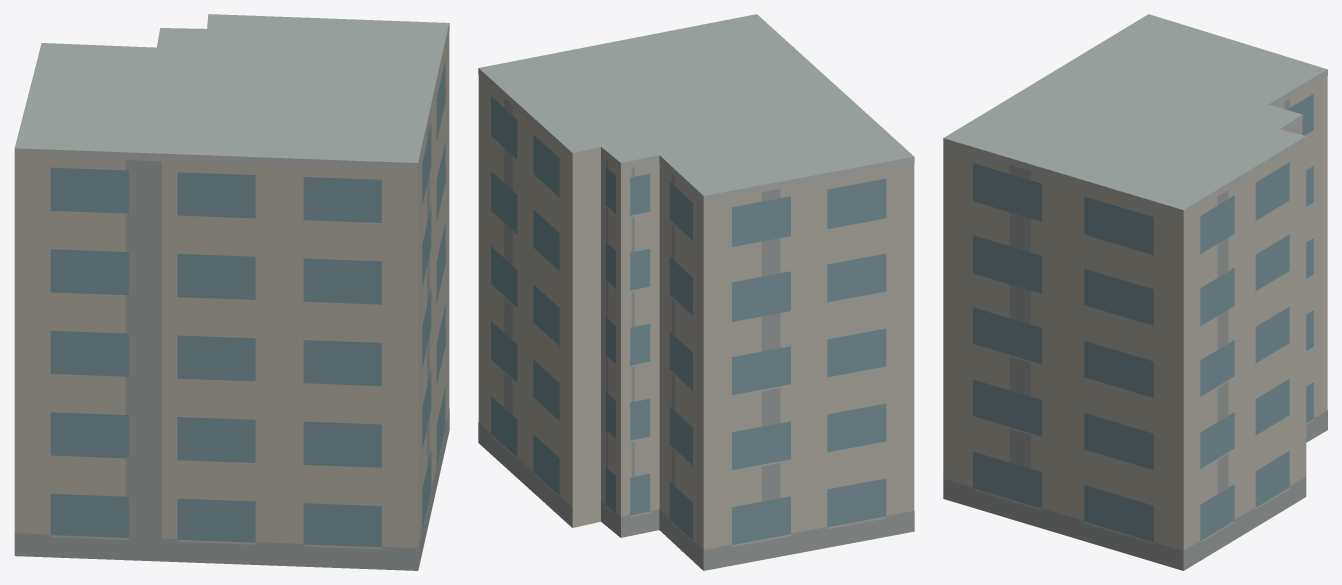
Rendered from survey-upis-32865179.glb.
3 renders of one model, left to right at view 1: azimuth 30°, elevation 25°; view 2: azimuth 150°, elevation 25°; view 3: azimuth 270°, elevation 25°, orthographic. The views are drawn at different scales.
Visible parts, largest first — view 1: survey-upis-32865179.tmp; view 2: survey-upis-32865179.tmp; view 3: survey-upis-32865179.tmp.
Part boxes in pixels (bbox=[...]): survey-upis-32865179.tmp: bbox=[14, 14, 449, 570]; survey-upis-32865179.tmp: bbox=[478, 14, 914, 570]; survey-upis-32865179.tmp: bbox=[943, 14, 1327, 570].
Bounding box in the file's own units: 15.11 × 12.95 × 12.52.
